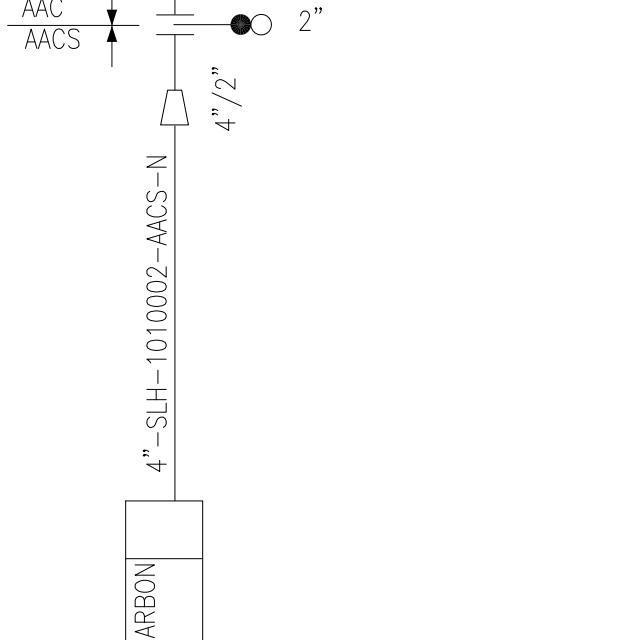SP: (155, 85, 193, 136)
